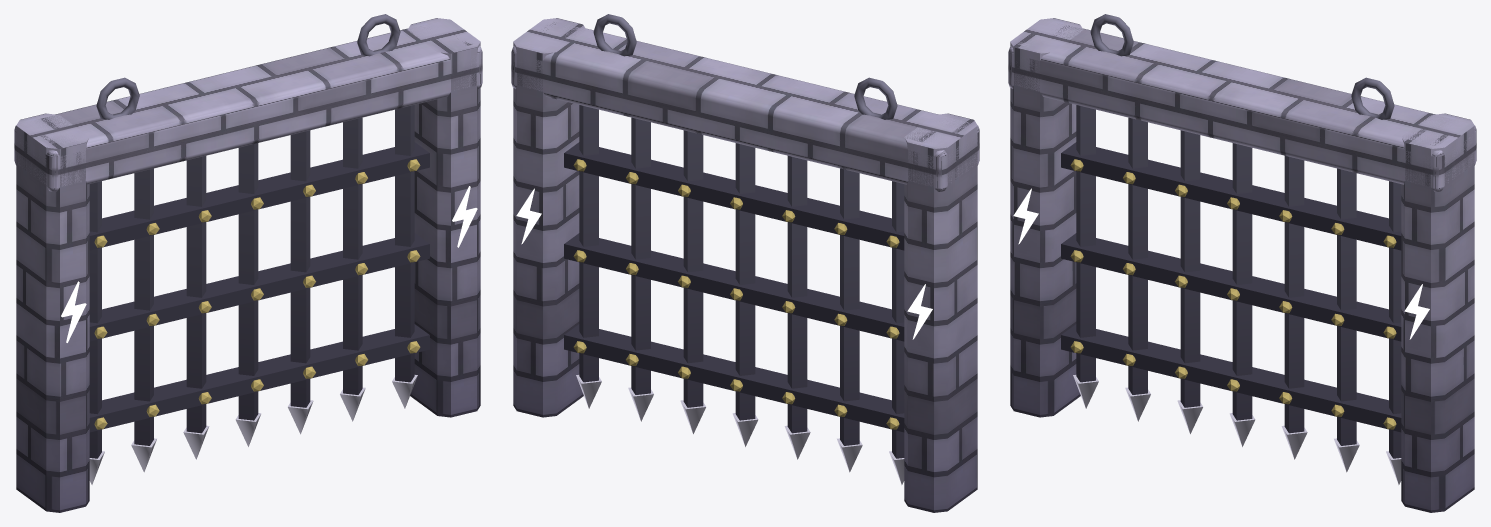
Rendered from grade-movel.glb.
3 views of the same model, side by side, from view 1: azimuth 30°, elevation 25°; view 2: azimuth 150°, elevation 25°; view 3: azimuth 330°, elevation 25° (orthographic).
Visible parts, largest first — view 1: grade-movel; view 2: grade-movel; view 3: grade-movel.
Boxes of the visible parts, x1,y1,x2,y2 form: grade-movel: [14, 14, 482, 512]; grade-movel: [511, 14, 979, 512]; grade-movel: [1008, 14, 1476, 512].
Size of the model in its own units: 5 by 4.4 by 0.86.
3 materials, 1 textured.
